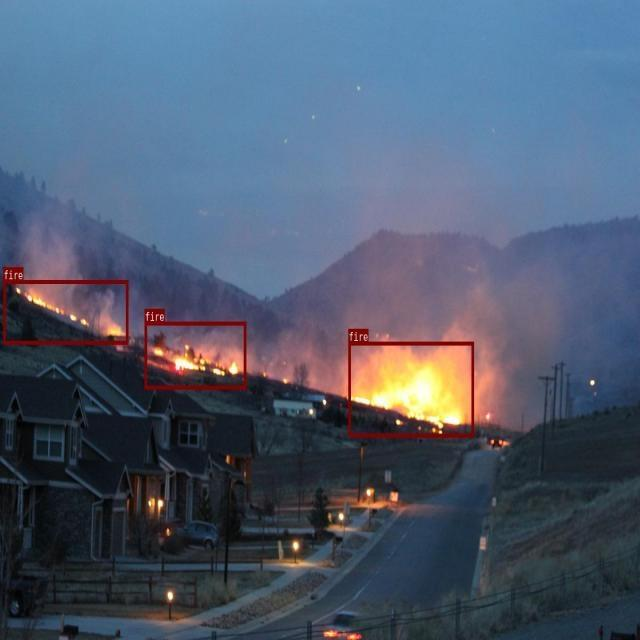fire: (348, 341, 473, 436), (3, 279, 128, 344), (144, 321, 246, 389)
